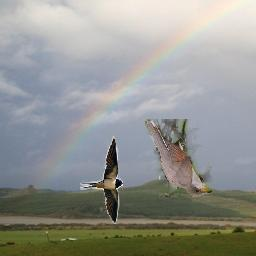Cuckoo: (146, 119, 213, 197)
Swallow: (81, 136, 124, 224)
